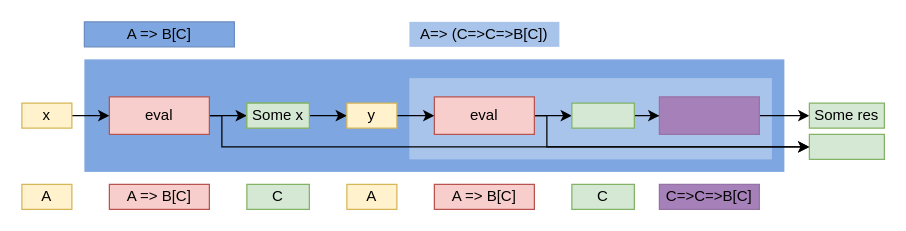
Image size: 906x231. Some labels were removed from this diagram. The centre of each missing label's shape, as x and y in pixels:
"None" belongs at point (846, 146).
"safediv" belongs at point (708, 115).
"Some y" belongs at point (602, 115).
